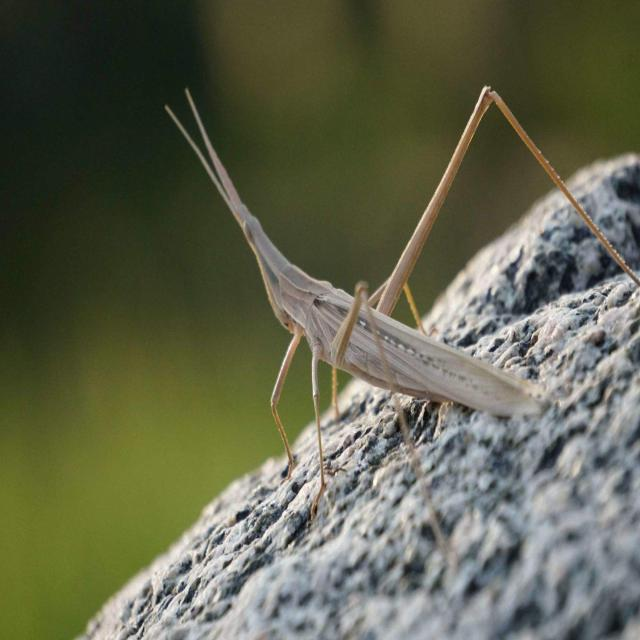ZhaMeng: (154, 73, 580, 520)
